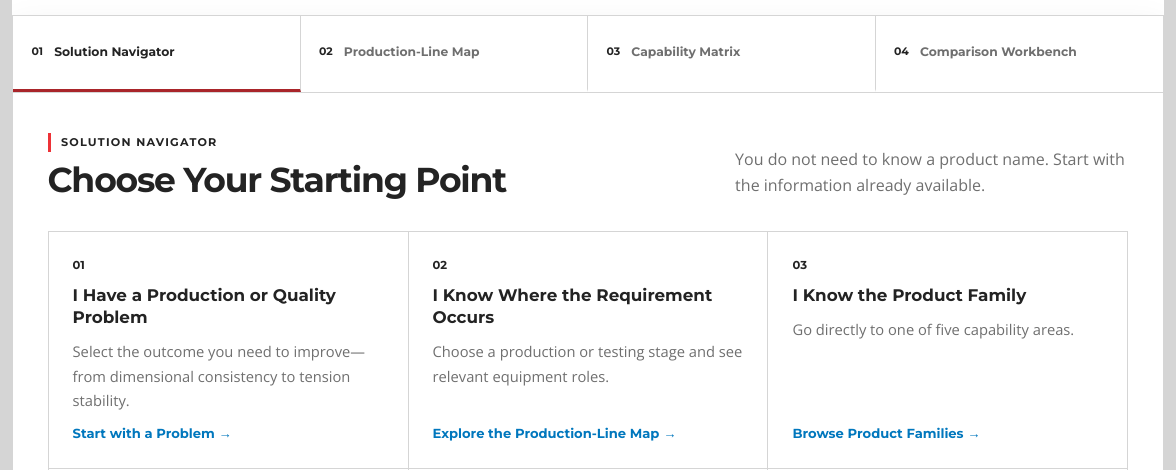
capability explorer interactions › allows direct comparison of P12 capacity SKUs
Click the tab "04 Comparison Workbench": (1019, 54) [876,16,1163,92]
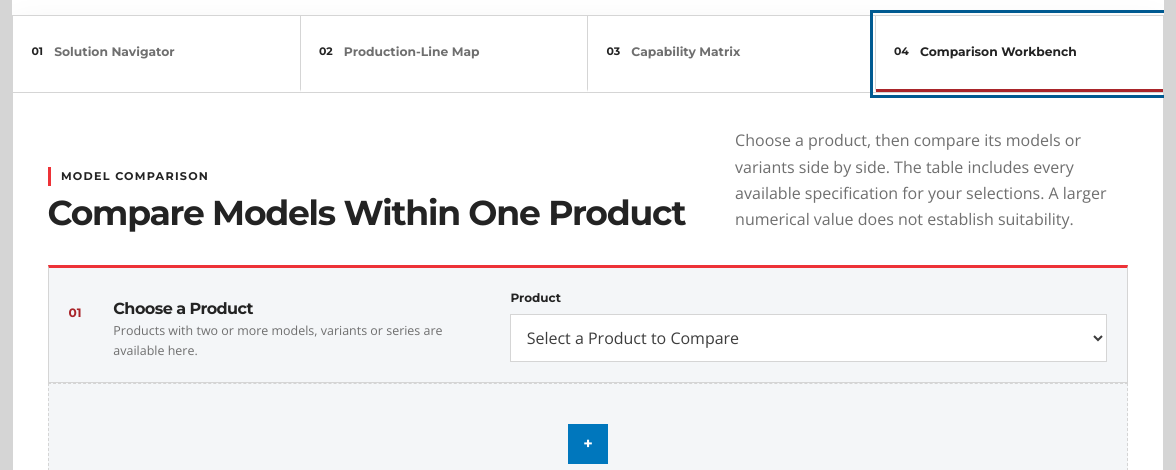
Select "Loadcells and Tension Transducers (6 series · 24 capacity options)" in the dropdown labelled "Product": (809, 338) [510,314,1107,362]
(page scrolled)
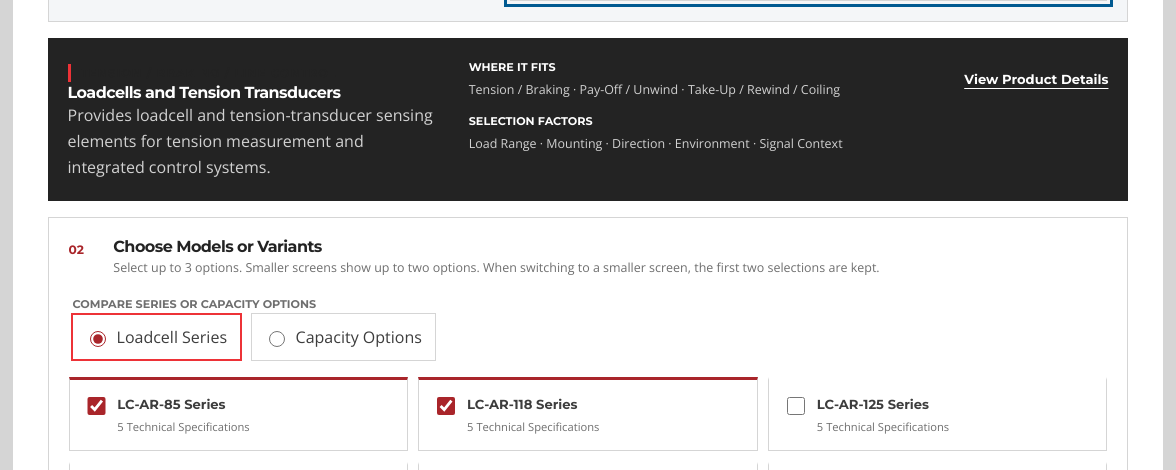
Click the radio button labelled "Capacity Options": (277, 339) [269,331,285,347]
(page scrolled)
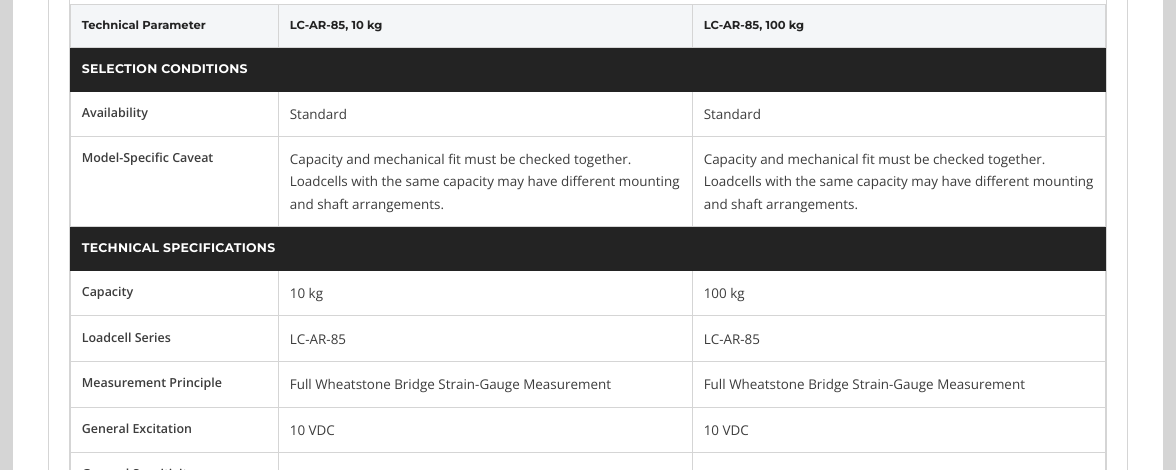
Expected: the column heading "Capacity" is shown, [70,270,278,316]
Expected: the column heading "Loadcell Series" is shown, [70,316,278,362]
